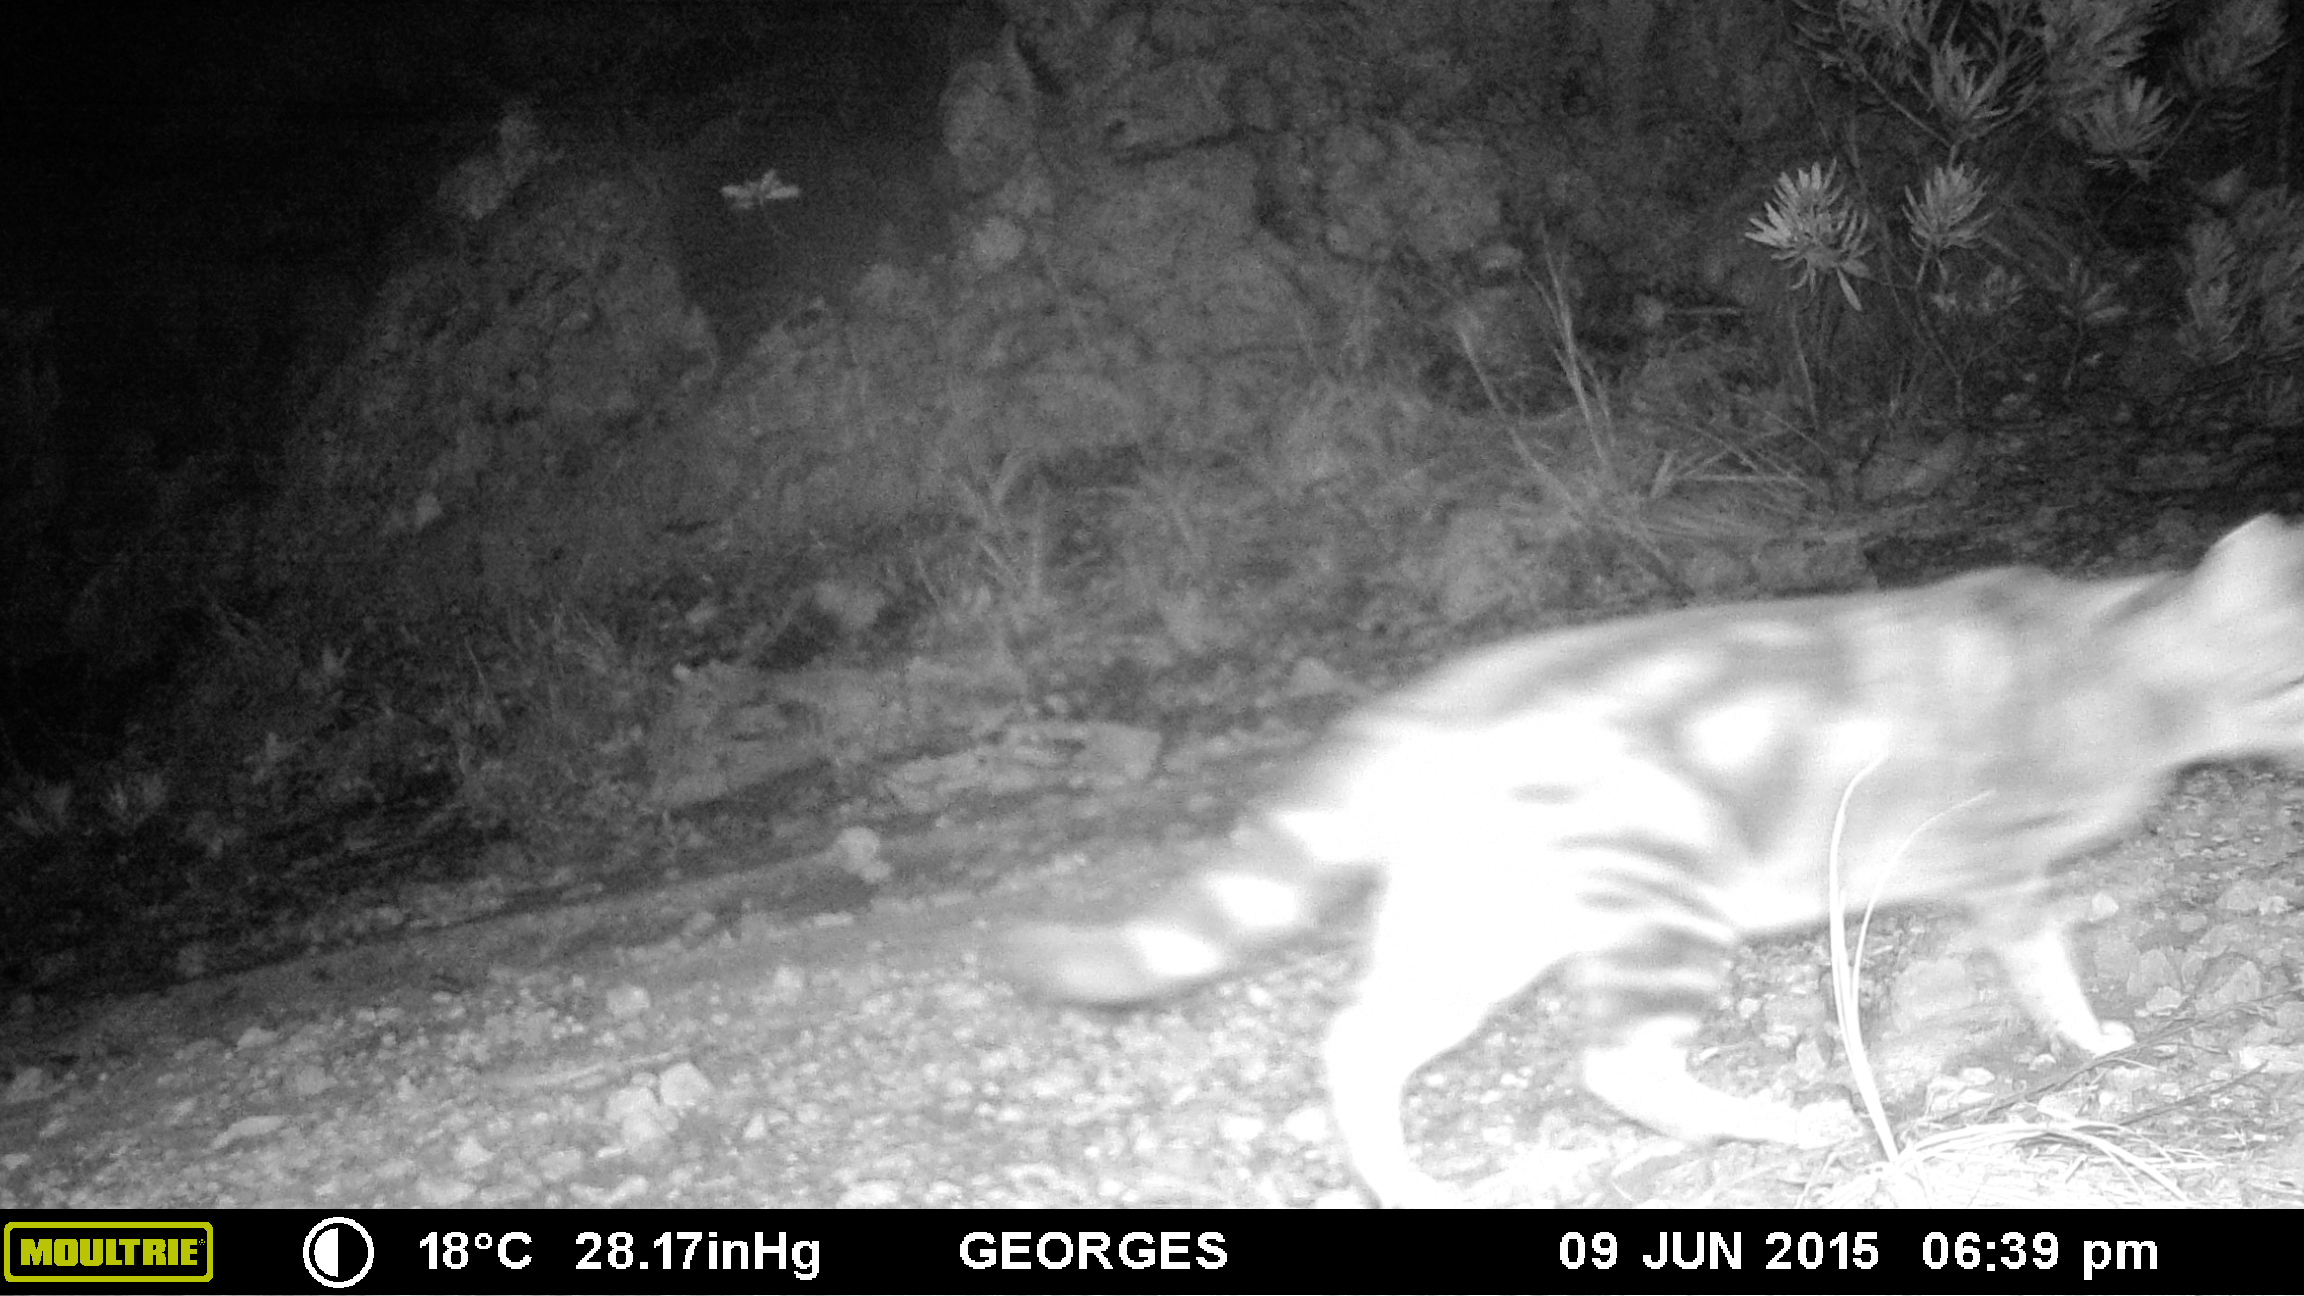cat: (1011, 513, 2299, 1203)
